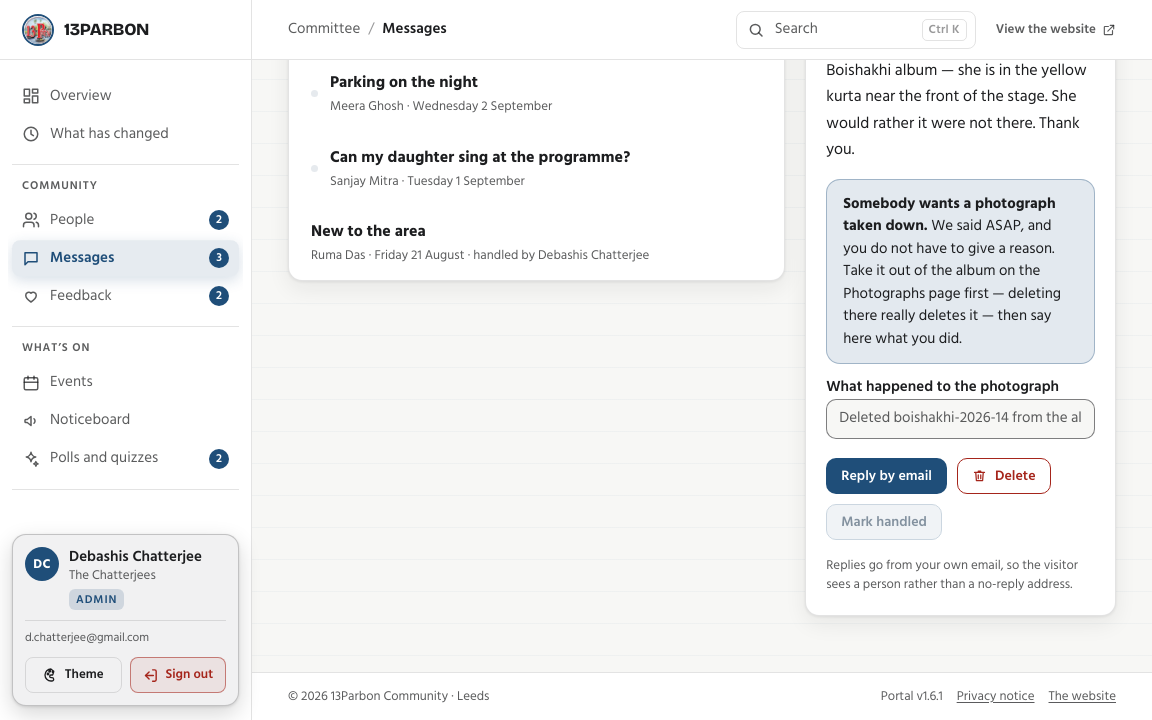
deleting a message › points at marking it handled, which keeps it
(page scrolled)
Click the button "Delete". click: {"x": 1004, "y": 476}
box: [957,458,1051,494]
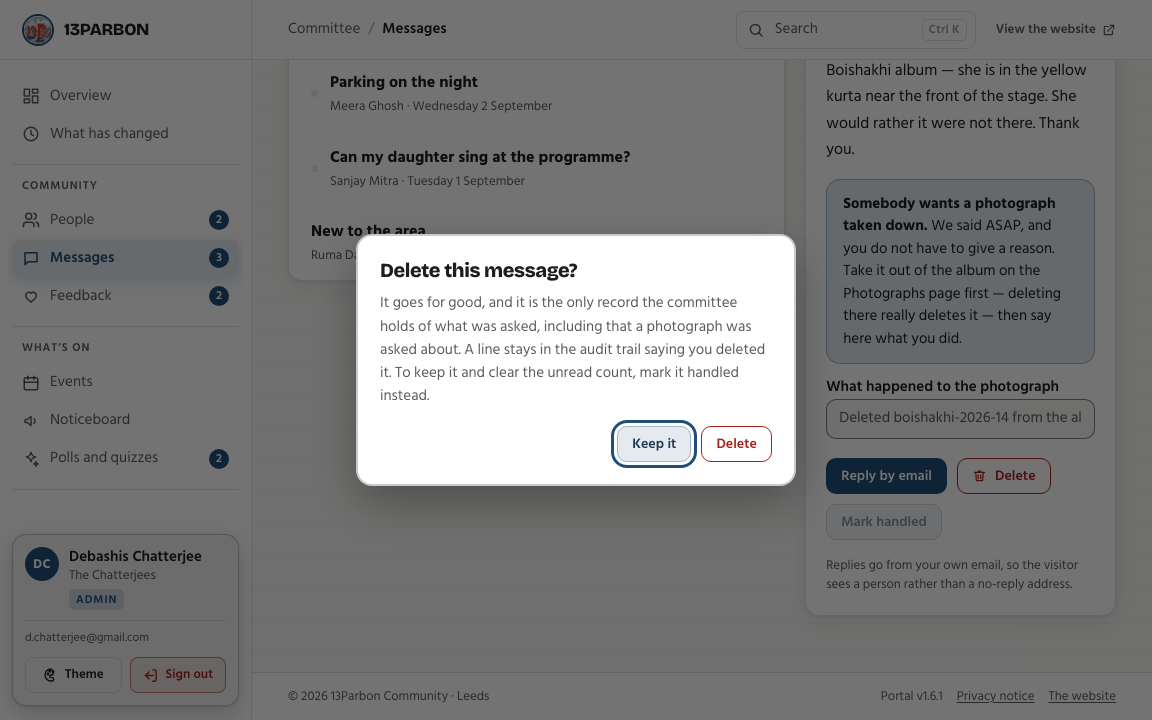
Expected: the dialog shows "mark it handled instead", [380,337,765,408]
